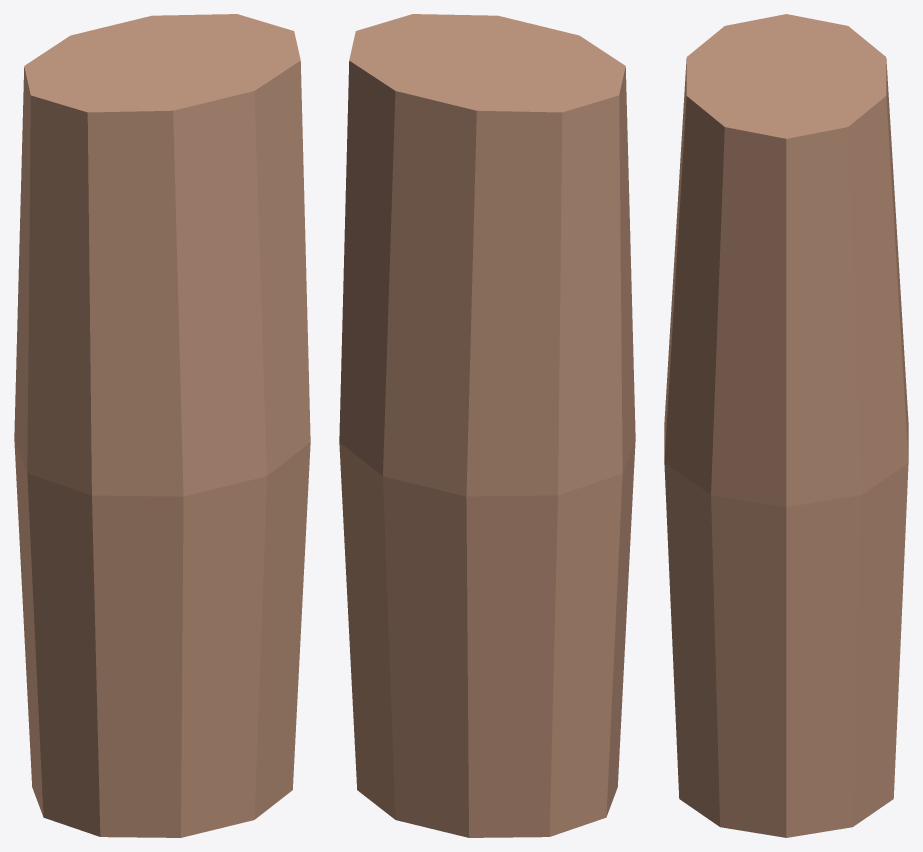
The model's file is wk_buck_standard_pelvis_v01.glb.
3 renders of one model, left to right at view 1: azimuth 30°, elevation 25°; view 2: azimuth 150°, elevation 25°; view 3: azimuth 270°, elevation 25°, orthographic. The views are drawn at different scales.
Visible parts, largest first — view 1: GEO_Pelvis.001; view 2: GEO_Pelvis.001; view 3: GEO_Pelvis.001.
Part boxes in pixels (bbox=[...]): GEO_Pelvis.001: bbox=[14, 14, 310, 837]; GEO_Pelvis.001: bbox=[339, 14, 635, 837]; GEO_Pelvis.001: bbox=[664, 14, 908, 837].
Size of the model in its own units: 0.39 by 1 by 0.3138.
